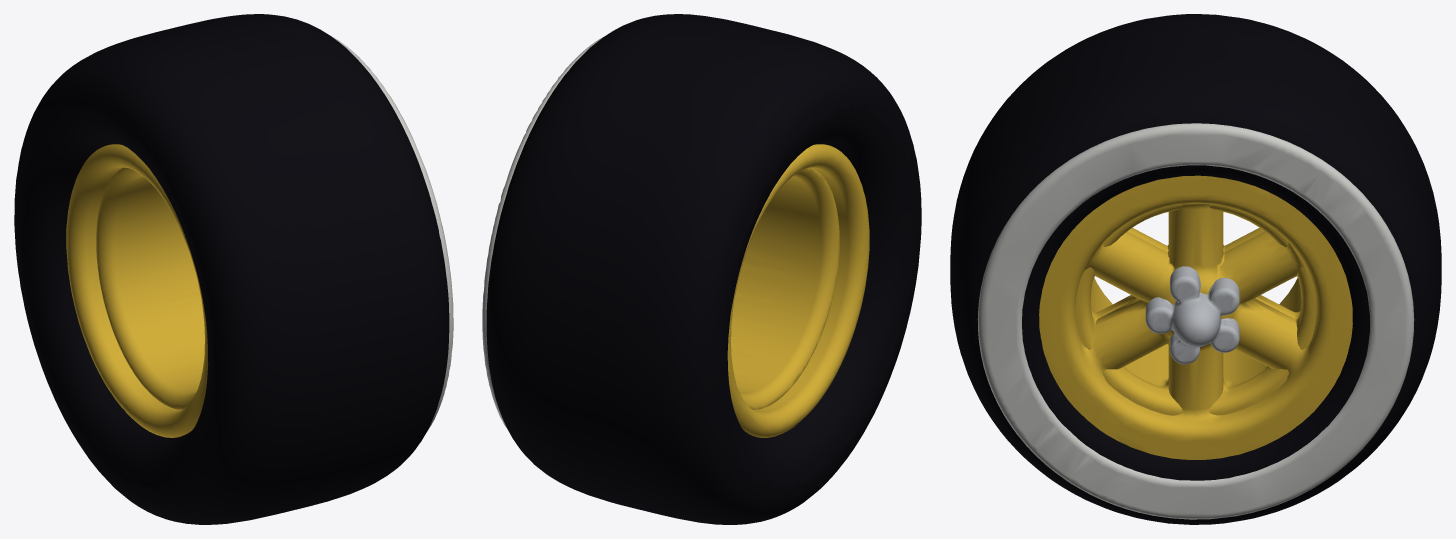
File: mini.glb
3 renders of one model, left to right at view 1: azimuth 30°, elevation 25°; view 2: azimuth 150°, elevation 25°; view 3: azimuth 270°, elevation 25°, orthographic.
Parts seen in each view (by area): view 1: wheel_rear, wheel_front; view 2: wheel_rear, wheel_front; view 3: wheel_rear, wheel_front.
Part boxes in pixels (x1,y1,x2,y2): wheel_rear: [14, 14, 453, 524]; wheel_front: [96, 167, 204, 409]; wheel_rear: [482, 14, 921, 524]; wheel_front: [731, 167, 839, 409]; wheel_rear: [950, 14, 1441, 524]; wheel_front: [1075, 204, 1316, 415].
Size of the model in its own units: 0.2099 by 0.36 by 0.3599.
